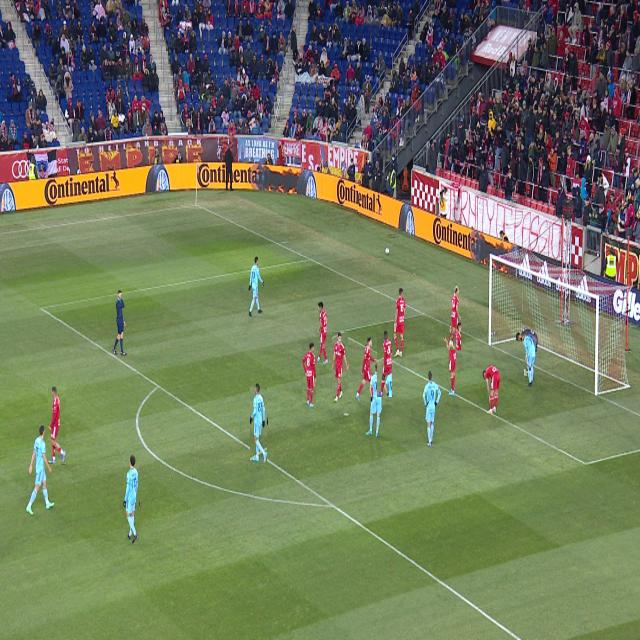goalkeeper: (516, 328, 537, 356), (525, 369, 528, 377)
player: (26, 425, 55, 515), (365, 363, 386, 437), (355, 337, 378, 401), (48, 386, 66, 464), (423, 371, 441, 447), (124, 455, 139, 544), (251, 384, 267, 463), (333, 332, 348, 403), (443, 323, 457, 396), (249, 257, 265, 316), (378, 330, 392, 397), (303, 341, 316, 408), (393, 287, 405, 357), (521, 331, 536, 387), (483, 365, 500, 414), (317, 301, 328, 364), (451, 286, 461, 350), (371, 385, 373, 397)
referee: (112, 290, 126, 355)
